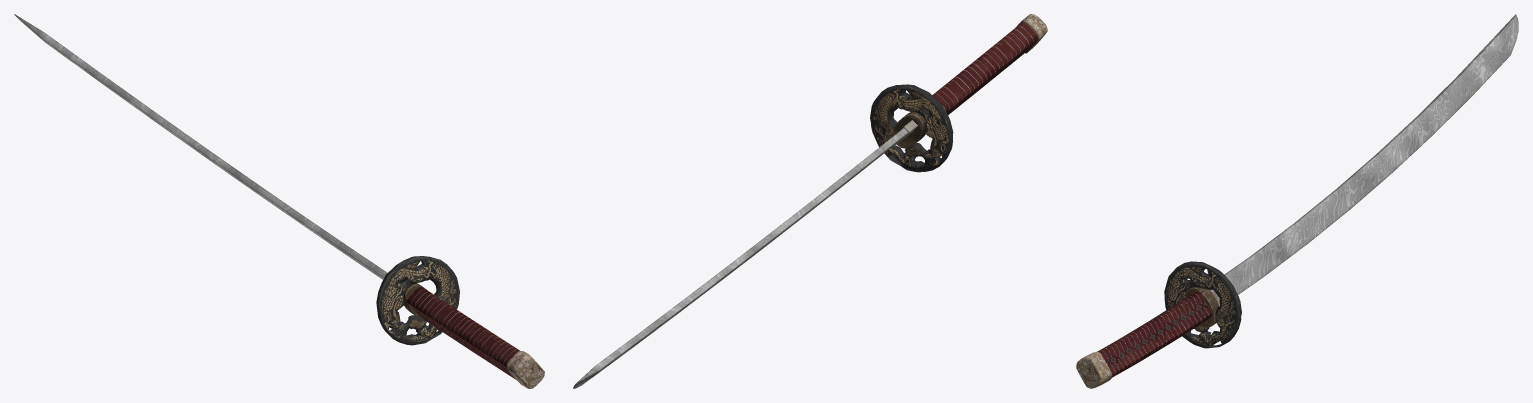
File: katana-compressed.glb
The picture shows the model from 3 angles, left to right: view 1: azimuth 30°, elevation 25°; view 2: azimuth 150°, elevation 25°; view 3: azimuth 330°, elevation 25°; orthographic projection. The views are drawn at different scales.
Visible parts, largest first — view 1: defaultMaterial; view 2: defaultMaterial; view 3: defaultMaterial.
Part boxes in pixels (x1=…): defaultMaterial: x1=14, y1=14, x2=544, y2=388; defaultMaterial: x1=573, y1=14, x2=1047, y2=388; defaultMaterial: x1=1076, y1=14, x2=1518, y2=388.
Bounding box in the file's own units: 8.83 × 8.89 × 91.28.
Materials: 1 (1 with a texture image).
